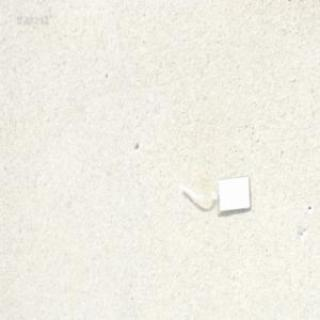LuggageTagtrack_idkeyframe: (176, 172, 252, 216)
